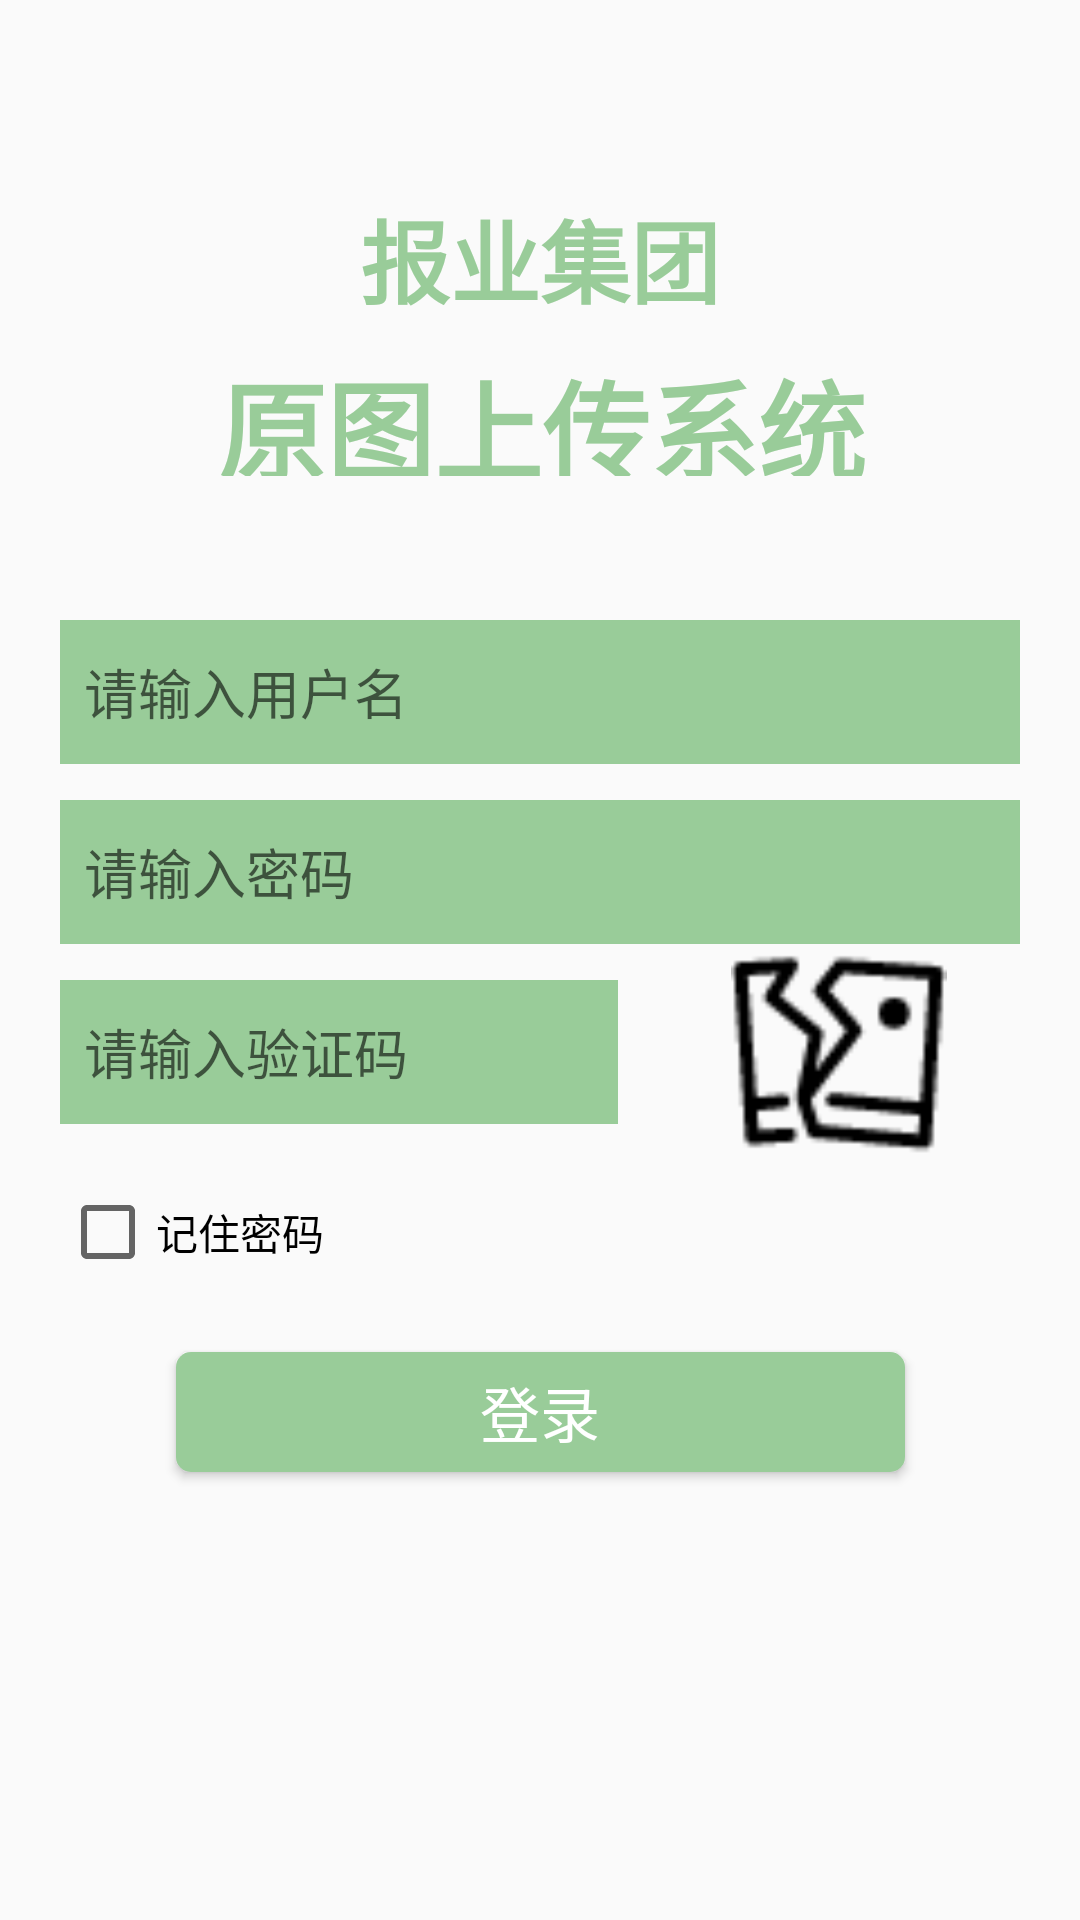

Screen size 1080px×1920px. Icon name, then its center in pixels as (x,y):
picturefail: (839,1053)
